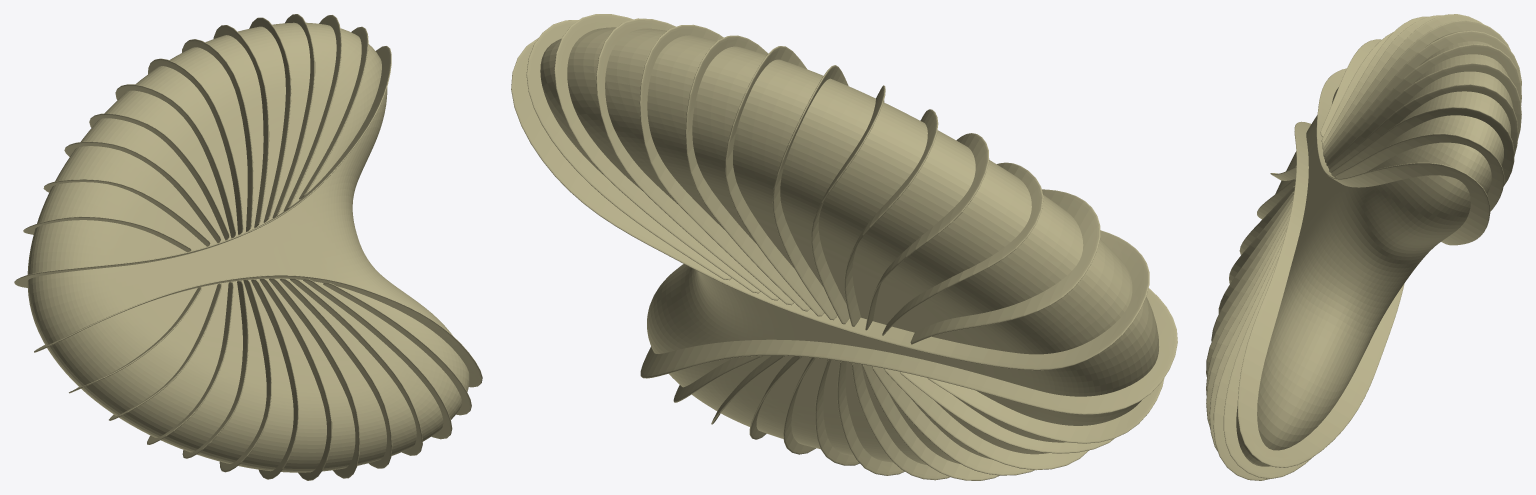
The model's file is fins-gold.glb.
The picture shows the model from 3 angles, left to right: view 1: azimuth 30°, elevation 25°; view 2: azimuth 150°, elevation 25°; view 3: azimuth 270°, elevation 25°; orthographic projection. The views are drawn at different scales.
Visible parts, largest first — view 1: Plane_13, Plane_12, Plane_6, Plane_7, Plane_8, Plane_5, Plane_10, Plane_4, Plane_9, Plane_11, Plane_3, Plane_2 (+2 smaller); view 2: Plane_13, Plane_12, Plane, Plane_11, Plane_10, Plane_2, Plane_1, Plane_8, Plane_7, Plane_6, Plane_9, Plane_5 (+2 smaller); view 3: Plane_13, Plane_12, Plane_11, Plane_10, Plane_8, Plane_9, Plane_7, Plane_6, Plane_5, Plane_4, Plane_3, Plane_2 (+2 smaller).
Part boxes in pixels (x1,y1,x2,y2): Plane_13: [27, 22, 469, 472]; Plane_12: [14, 46, 482, 387]; Plane_6: [182, 39, 332, 480]; Plane_7: [213, 25, 360, 478]; Plane_8: [249, 17, 392, 468]; Plane_5: [148, 58, 298, 479]; Plane_10: [283, 15, 452, 439]; Plane_4: [115, 84, 271, 472]; Plane_9: [272, 14, 422, 455]; Plane_11: [299, 26, 471, 415]; Plane_3: [89, 113, 248, 458]; Plane_2: [64, 141, 233, 444]; Plane_13: [540, 27, 1158, 465]; Plane_12: [511, 38, 1177, 414]; Plane: [910, 189, 1164, 443]; Plane_11: [526, 20, 762, 402]; Plane_10: [554, 14, 784, 424]; Plane_2: [865, 133, 1088, 470]; Plane_1: [882, 162, 1113, 453]; Plane_8: [639, 24, 815, 454]; Plane_7: [685, 35, 859, 465]; Plane_6: [725, 46, 904, 475]; Plane_9: [596, 18, 801, 439]; Plane_5: [772, 65, 950, 480]; Plane_13: [1236, 30, 1513, 466]; Plane_12: [1237, 68, 1490, 467]; Plane_11: [1223, 133, 1504, 478]; Plane_10: [1213, 107, 1514, 480]; Plane_8: [1206, 63, 1521, 428]; Plane_9: [1209, 84, 1518, 451]; Plane_7: [1206, 44, 1521, 394]; Plane_6: [1206, 30, 1521, 376]; Plane_5: [1211, 20, 1510, 341]; Plane_4: [1218, 14, 1482, 313]; Plane_3: [1229, 15, 1442, 283]; Plane_2: [1239, 16, 1428, 254].
Size of the model in its own units: 2.7 by 2.39 by 1.73.
